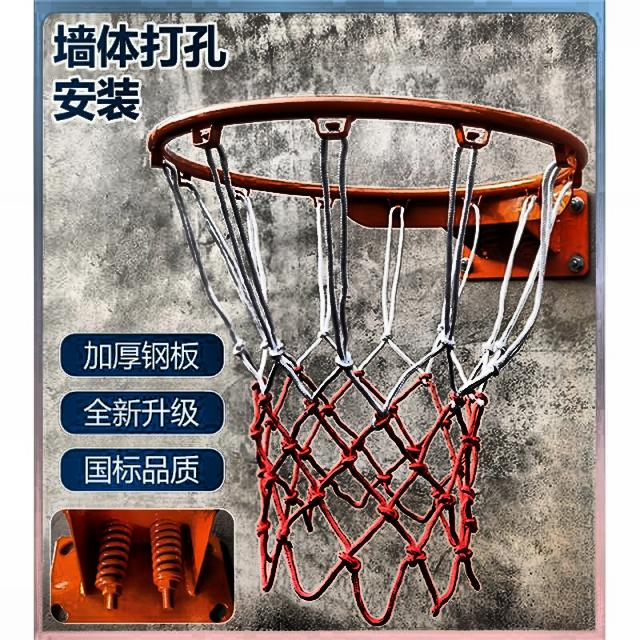rim: (149, 95, 586, 627)
